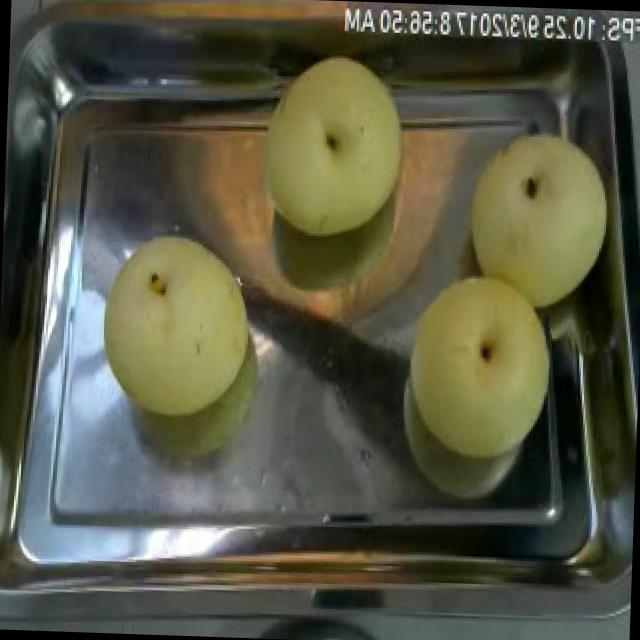Fruit: (374, 248, 566, 484), (242, 35, 424, 259), (88, 216, 270, 430), (446, 116, 629, 328)
